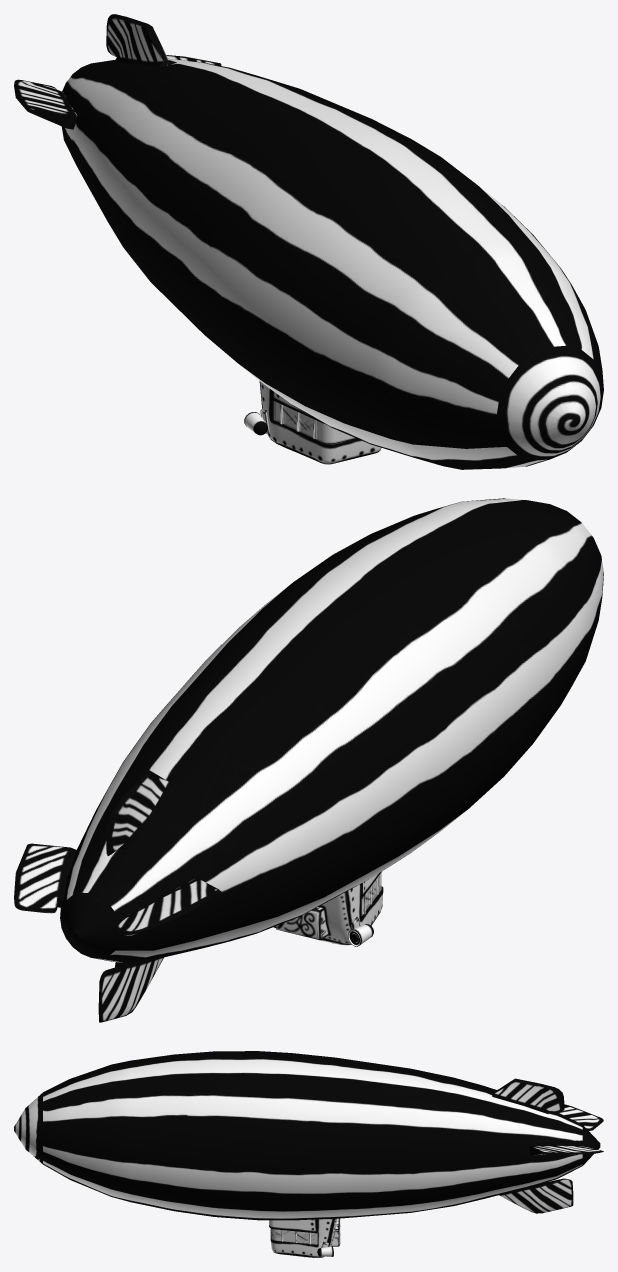
Rendered from blimp.glb.
3 views of the same model, one above another, from view 1: azimuth 30°, elevation 25°; view 2: azimuth 150°, elevation 25°; view 3: azimuth 270°, elevation 25° (orthographic). The views are drawn at different scales.
Size of the model in its own units: 14.45 by 17.74 by 50.
Materials: 1 (1 with a texture image).
